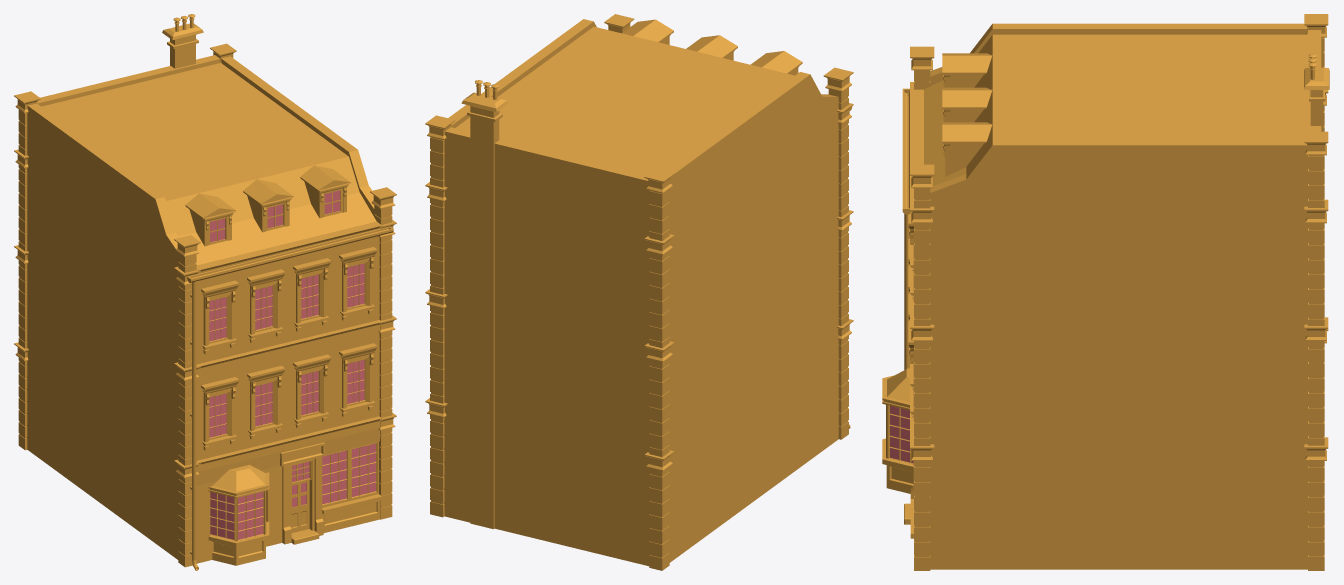
Rendered from SM_Building_Residential_Medium.fbx.
3 renders of one model, left to right at view 1: azimuth 30°, elevation 25°; view 2: azimuth 150°, elevation 25°; view 3: azimuth 270°, elevation 25°, orthographic. The views are drawn at different scales.
Visible parts, largest first — view 1: building-residential-medium-base, building-residential-medium-door; view 2: building-residential-medium-base; view 3: building-residential-medium-base.
Boxes of the visible parts, bbox=[...] form: building-residential-medium-base: bbox=[14, 14, 396, 570]; building-residential-medium-door: bbox=[291, 480, 309, 532]; building-residential-medium-base: bbox=[425, 14, 853, 570]; building-residential-medium-base: bbox=[882, 14, 1329, 570].
Bounding box in the file's own units: 9.25 × 16.34 × 13.66.
